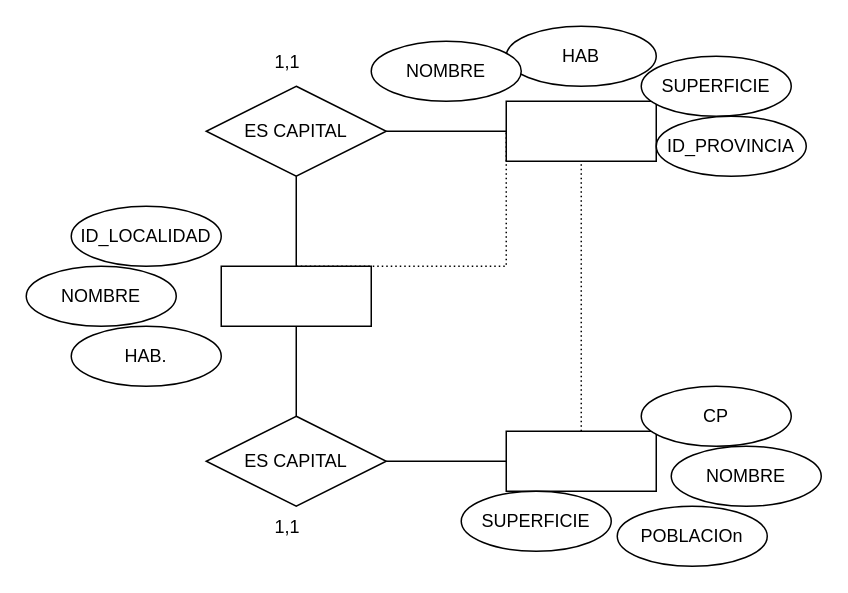
This 848x593 diagram has some shape labels left out. The shapes that lost their labels are listed below. From the top down, each one's box as (x1, y1, x2, y2) in pixels, then its label:
(505, 100, 656, 161): PROVINCIA
(220, 265, 371, 326): LOCALIDAD
(505, 430, 656, 491): CoMUNIDAD AUTONOMA
